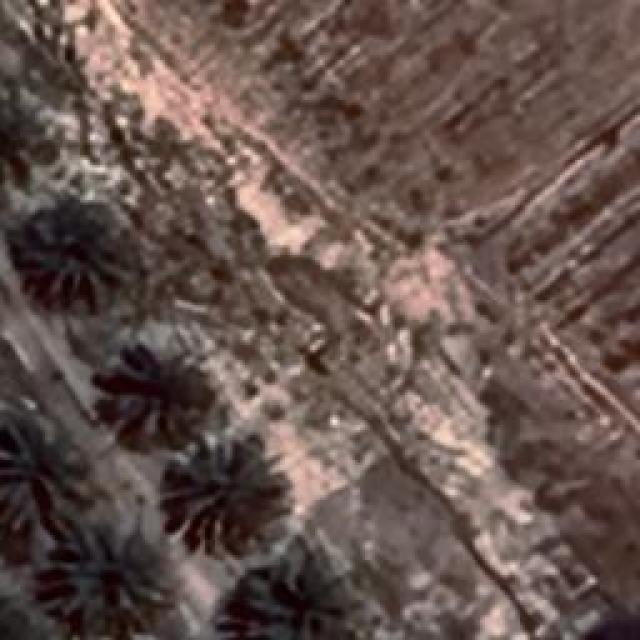PalmTree: (47, 108, 115, 566), (220, 555, 348, 635), (22, 210, 126, 308), (176, 451, 282, 544), (104, 346, 204, 439), (0, 418, 80, 532), (0, 592, 47, 640)
